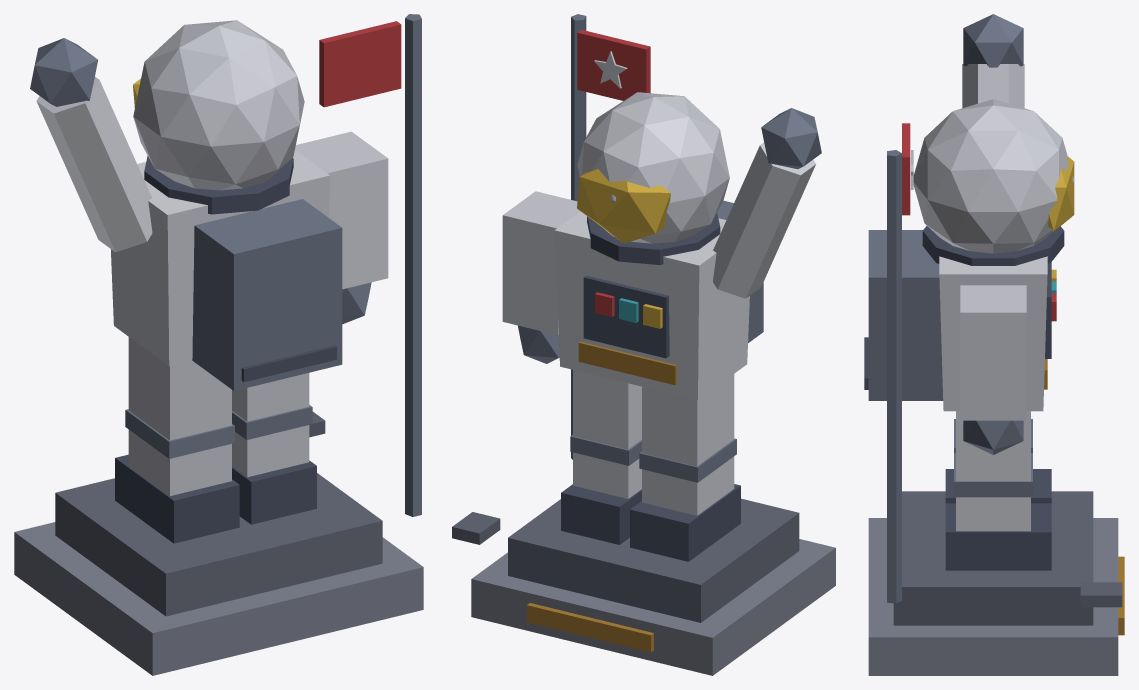
The model's file is Decor_Observatory_Astronaut.fbx.
3 views of the same model, side by side, from view 1: azimuth 30°, elevation 25°; view 2: azimuth 150°, elevation 25°; view 3: azimuth 270°, elevation 25° (orthographic). The views are drawn at different scales.
Visible parts, largest first — view 1: Astronaut_Body; view 2: Astronaut_Body; view 3: Astronaut_Body.
Part boxes in pixels (<box>): Astronaut_Body: <box>14,14,423,675</box>; Astronaut_Body: <box>452,14,835,675</box>; Astronaut_Body: <box>864,14,1124,675</box>.
Size of the model in its own units: 8.15 by 13.6 by 6.
